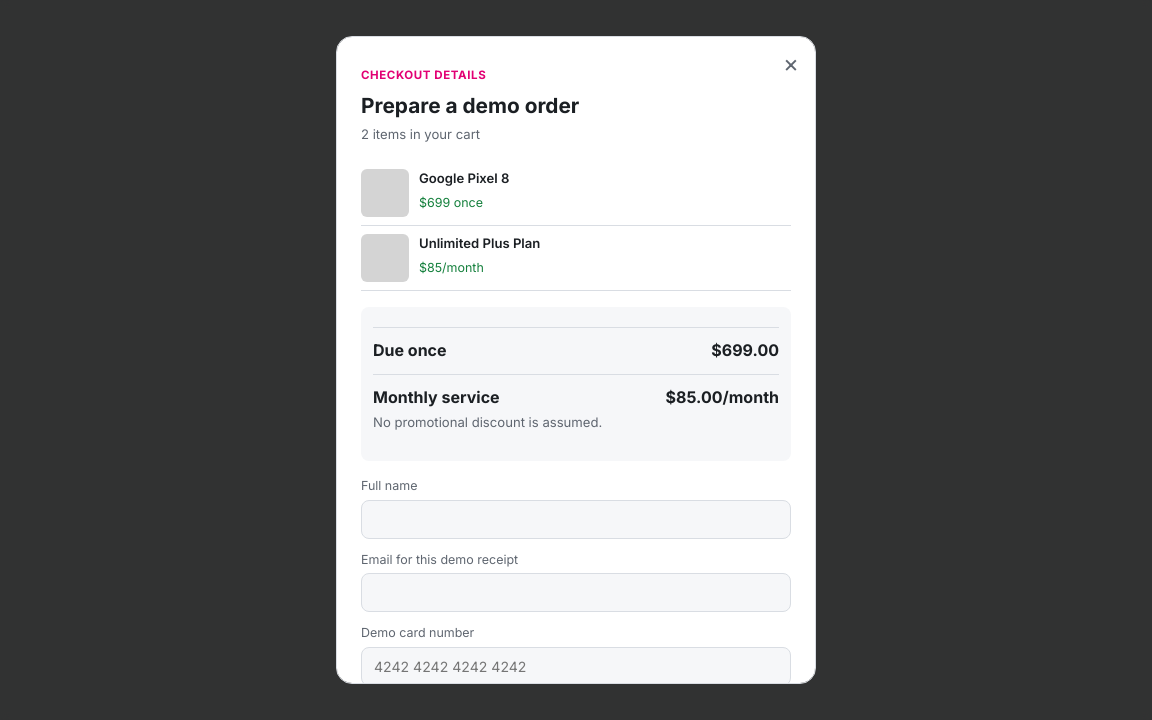
Test: CheckoutModal trusted demo review › maps the approved card to a demo token and never sends the raw number
Step 1. Type "Demo User" into the field labelled "Full name" → (576, 519), box top-left (361, 500), bottom-right (791, 538)
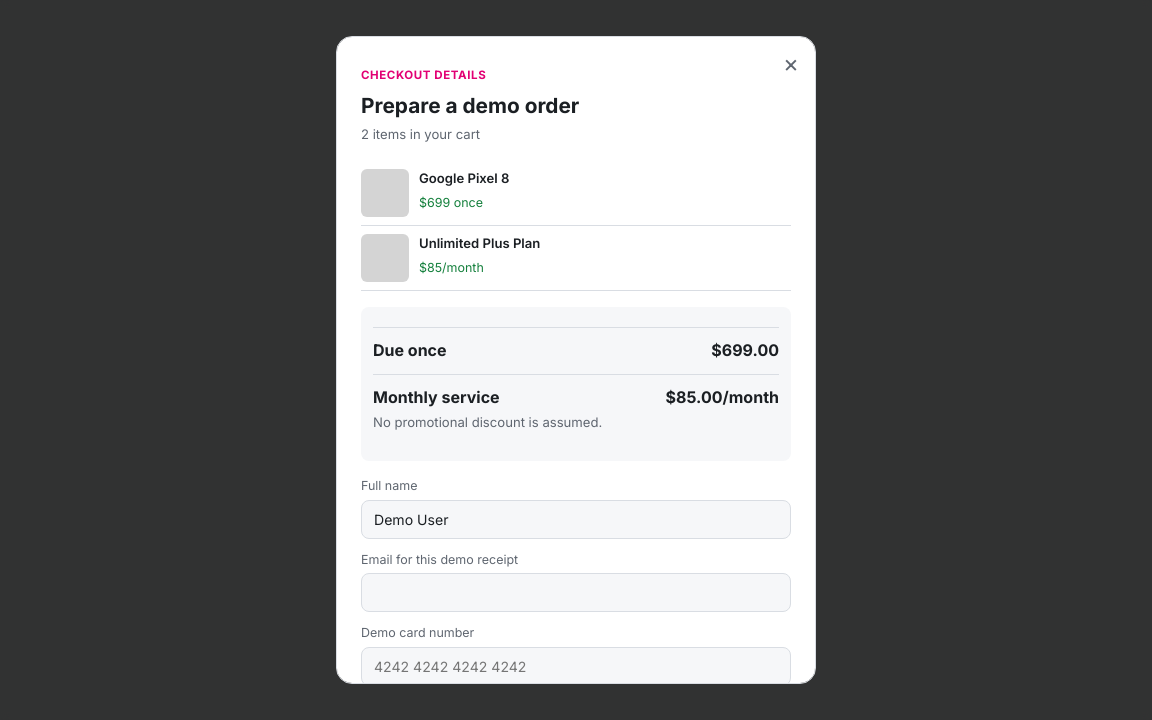
Step 2. Type "demo@example.com" into the field labelled "Email for this demo receipt" → (576, 593), box top-left (361, 573), bottom-right (791, 612)
(page scrolled)
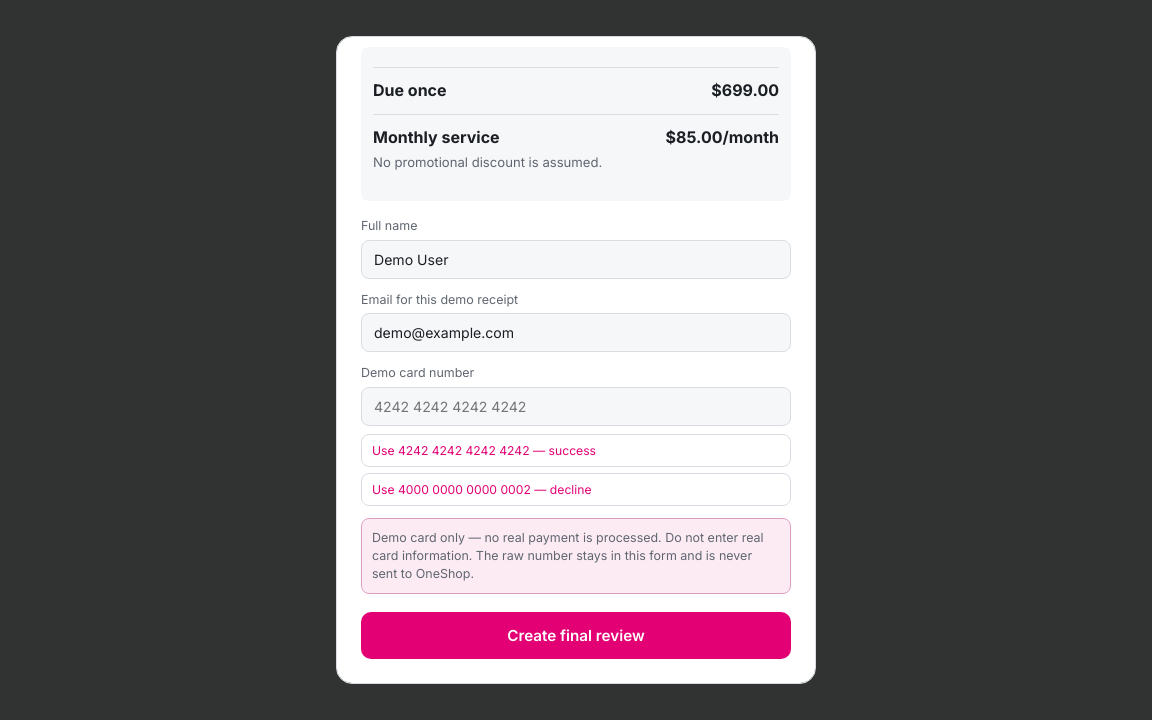
Step 3. Click the button "Use 4242 4242 4242 4242 — success" → (576, 450), box top-left (361, 434), bottom-right (791, 467)
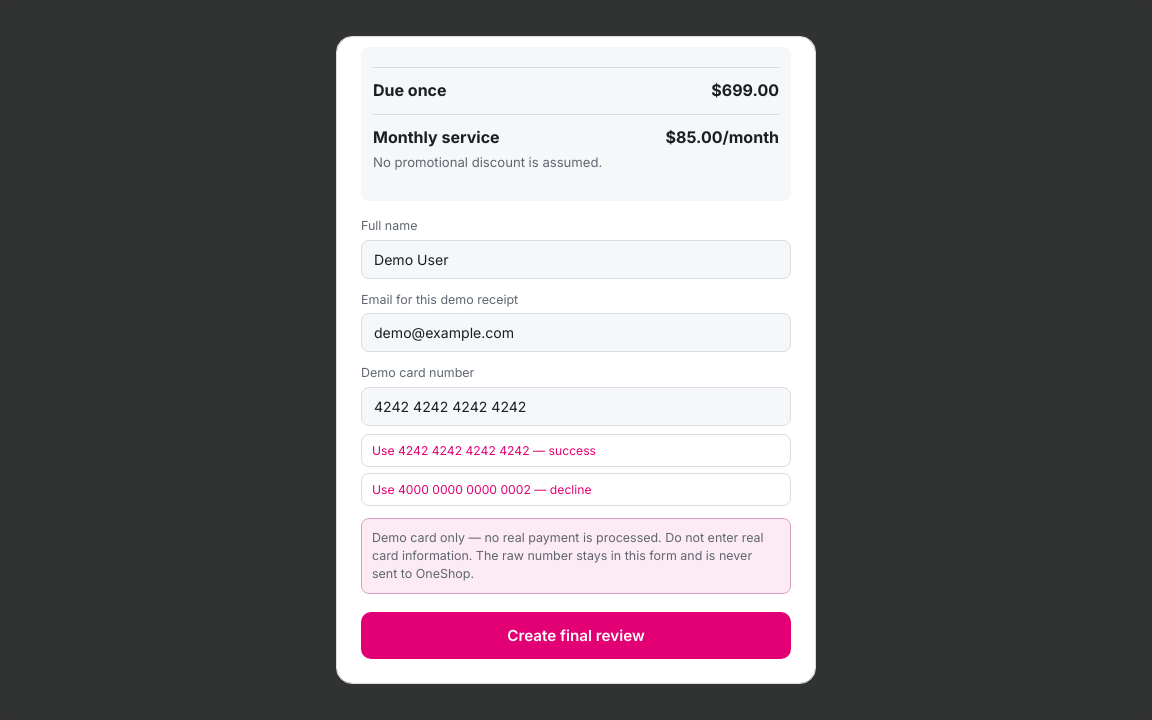
Step 4. Click the button "Create final review" → (576, 636), box top-left (361, 612), bottom-right (791, 659)
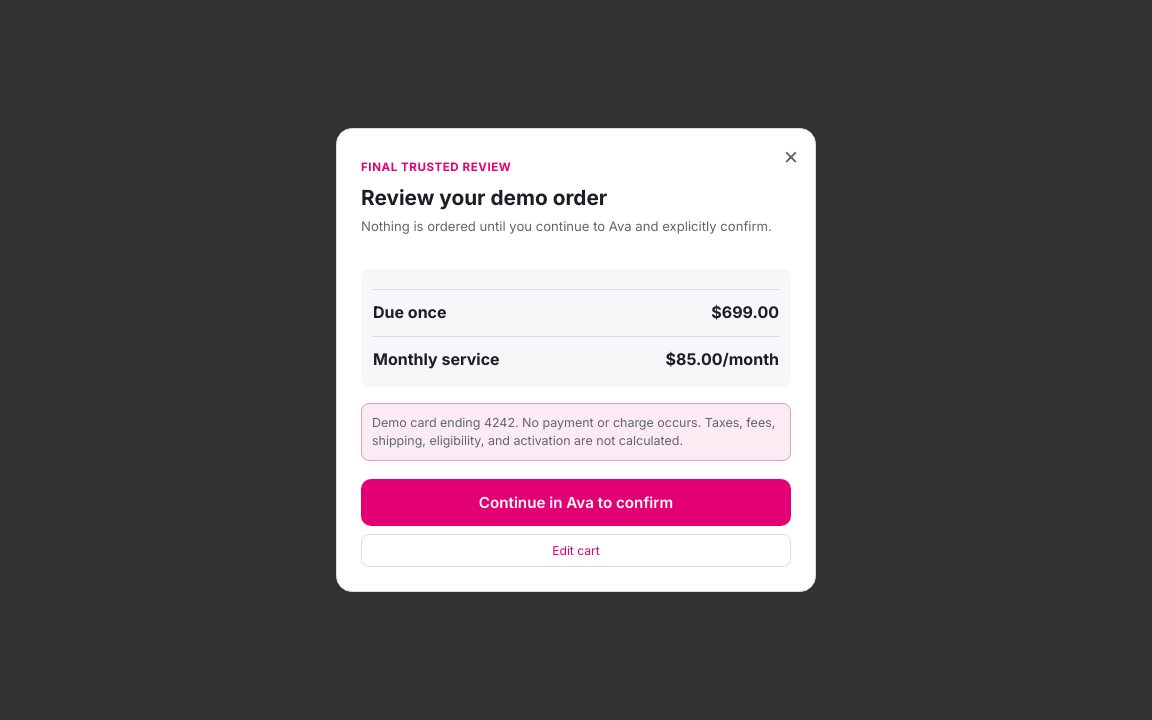
Expected: the heading "Review your demo order" is shown, top-left (361, 185), bottom-right (607, 210)
